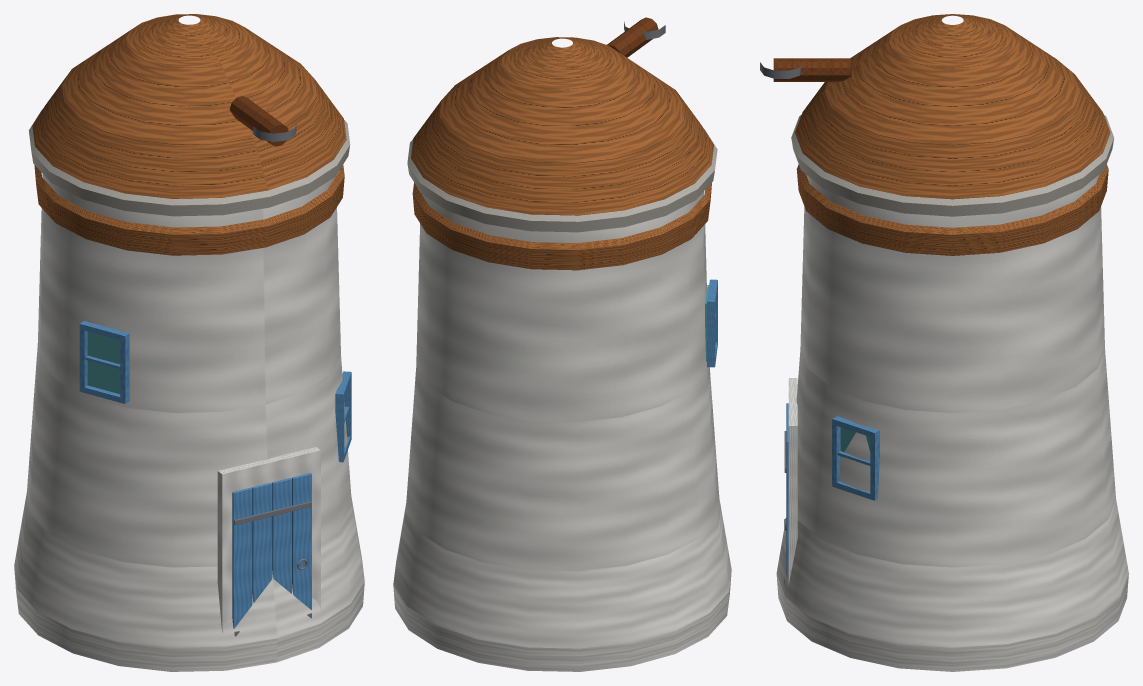
Rendered from greek-island-village-and-harbour-windmill-tower-c58e8370__37117.glb.
3 renders of one model, left to right at view 1: azimuth 30°, elevation 25°; view 2: azimuth 150°, elevation 25°; view 3: azimuth 270°, elevation 25°, orthographic. The views are drawn at different scales.
Visible parts, largest first — view 1: windmill-tower, door/blue, door/iron; view 2: windmill-tower; view 3: windmill-tower.
Part boxes in pixels (<box>): windmill-tower: <box>14,14,364,671</box>; door/blue: <box>232,473,311,628</box>; door/iron: <box>234,501,311,636</box>; windmill-tower: <box>393,17,731,671</box>; windmill-tower: <box>760,14,1128,671</box>.
Bounding box in the file's own units: 3.84 × 6.95 × 4.02.
Materials: 7 (5 with a texture image).
